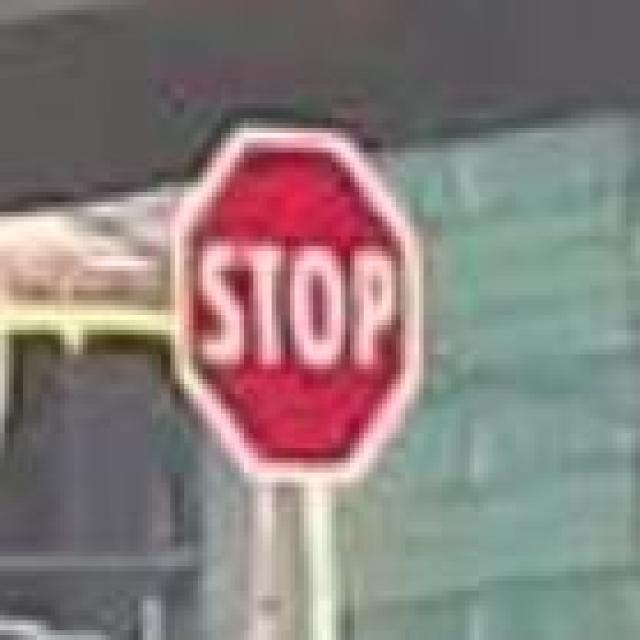traffic sign: (171, 119, 415, 488)
